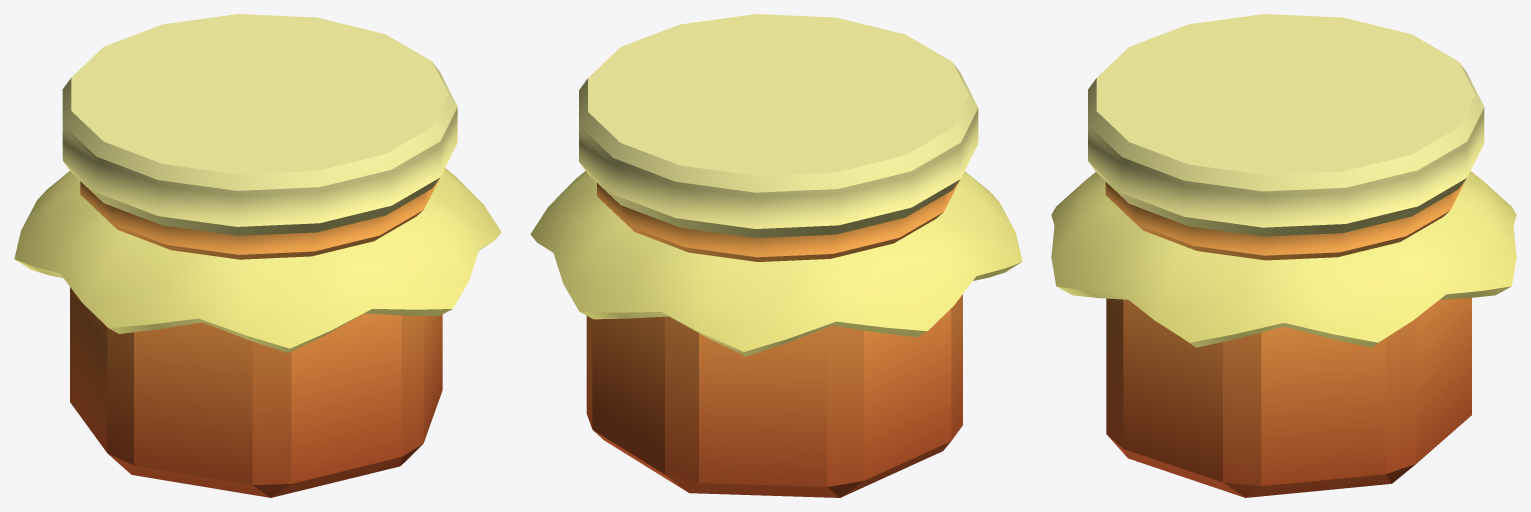
File: jam_orange.fbx
3 renders of one model, left to right at view 1: azimuth 30°, elevation 25°; view 2: azimuth 150°, elevation 25°; view 3: azimuth 270°, elevation 25°, orthographic.
Visible parts, largest first — view 1: jam_orange; view 2: jam_orange; view 3: jam_orange.
Part boxes in pixels (bbox=[...]): jam_orange: bbox=[14, 14, 501, 497]; jam_orange: bbox=[530, 14, 1022, 497]; jam_orange: bbox=[1051, 14, 1516, 497].
Bounding box in the file's own units: 65.2 × 51.35 × 65.2.
